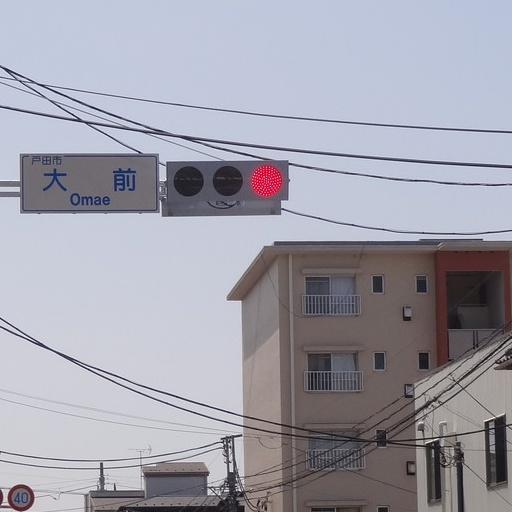Traffic_Signal_Red: (164, 153, 299, 213)
